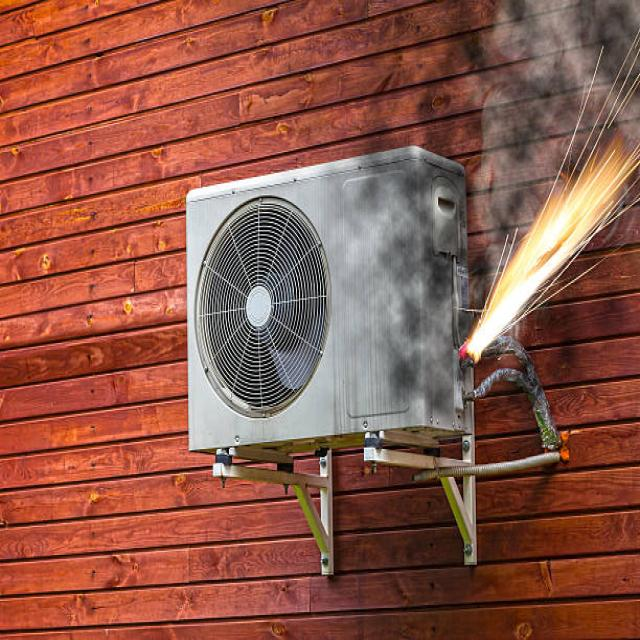fire: (466, 75, 633, 377)
